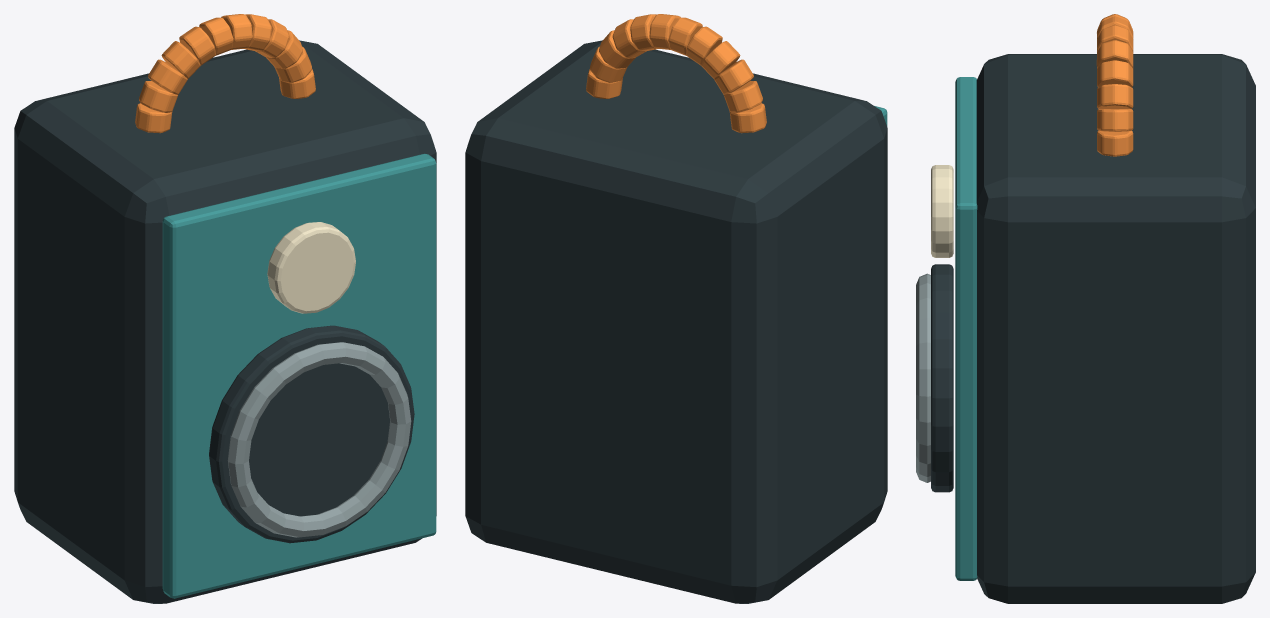
Rendered from P084_small_speaker.glb.
3 views of the same model, side by side, from view 1: azimuth 30°, elevation 25°; view 2: azimuth 150°, elevation 25°; view 3: azimuth 270°, elevation 25° (orthographic).
Visible parts, largest first — view 1: P084_case_001, P084_front_002, P084_woofer_003, P084_speaker_rim_004, P084_tweeter_005, P084_carry_016, P084_carry_014, P084_carry_013, P084_carry_015, P084_carry_017, P084_carry_012, P084_carry_011 (+5 smaller); view 2: P084_case_001, P084_carry_016, P084_carry_013, P084_carry_014, P084_carry_015, P084_carry_017, P084_carry_012, P084_carry_011, P084_carry_010, P084_carry_009, P084_carry_006, P084_carry_008 (+1 smaller); view 3: P084_case_001, P084_front_002, P084_woofer_003, P084_speaker_rim_004, P084_tweeter_005, P084_carry_006, P084_carry_008, P084_carry_009, P084_carry_007, P084_carry_010, P084_carry_011.
Part boxes in pixels (box(x1,y1,x2,y2)): P084_case_001: box(14, 40, 436, 603); P084_front_002: box(162, 153, 436, 598); P084_woofer_003: box(209, 325, 414, 543); P084_speaker_rim_004: box(227, 342, 411, 537); P084_tweeter_005: box(267, 222, 355, 313); P084_carry_016: box(139, 81, 177, 112); P084_carry_014: box(161, 41, 200, 78); P084_carry_013: box(179, 26, 215, 65); P084_carry_015: box(148, 59, 187, 94); P084_carry_017: box(135, 103, 172, 133); P084_carry_012: box(199, 17, 233, 55); P084_carry_011: box(221, 14, 252, 49); P084_case_001: box(465, 40, 887, 603); P084_carry_016: box(724, 81, 762, 112); P084_carry_013: box(686, 26, 722, 65); P084_carry_014: box(701, 41, 740, 78); P084_carry_015: box(714, 59, 753, 94); P084_carry_017: box(729, 103, 766, 133); P084_carry_012: box(668, 17, 702, 55); P084_carry_011: box(649, 14, 680, 49); P084_carry_010: box(630, 14, 658, 51); P084_carry_009: box(612, 19, 646, 57); P084_carry_006: box(586, 69, 622, 98); P084_carry_008: box(599, 30, 635, 68); P084_case_001: box(976, 54, 1255, 603); P084_front_002: box(955, 77, 977, 580); P084_woofer_003: box(931, 264, 953, 492); P084_speaker_rim_004: box(916, 273, 930, 482); P084_tweeter_005: box(931, 165, 953, 257); P084_carry_006: box(1097, 130, 1133, 156); P084_carry_008: box(1097, 84, 1133, 108); P084_carry_009: box(1097, 60, 1133, 87); P084_carry_007: box(1097, 109, 1133, 131); P084_carry_010: box(1096, 40, 1133, 67); P084_carry_011: box(1097, 25, 1133, 51).
Size of the model in its own units: 0.19 by 0.3044 by 0.181.
